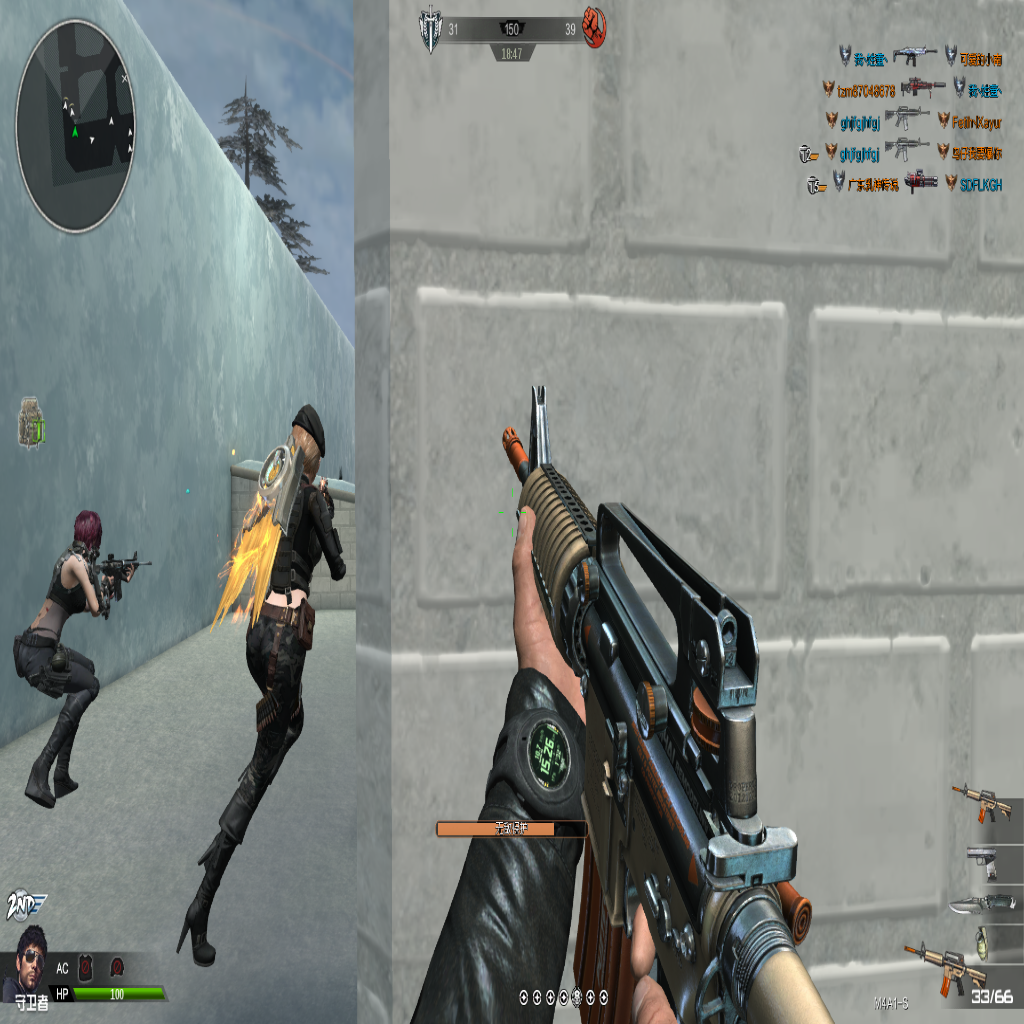ct: (183, 408, 353, 974), (9, 501, 142, 818)
